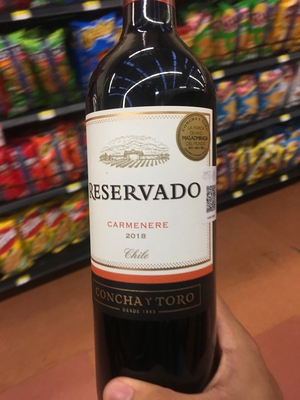reservado carmenere: (78, 6, 232, 397)
